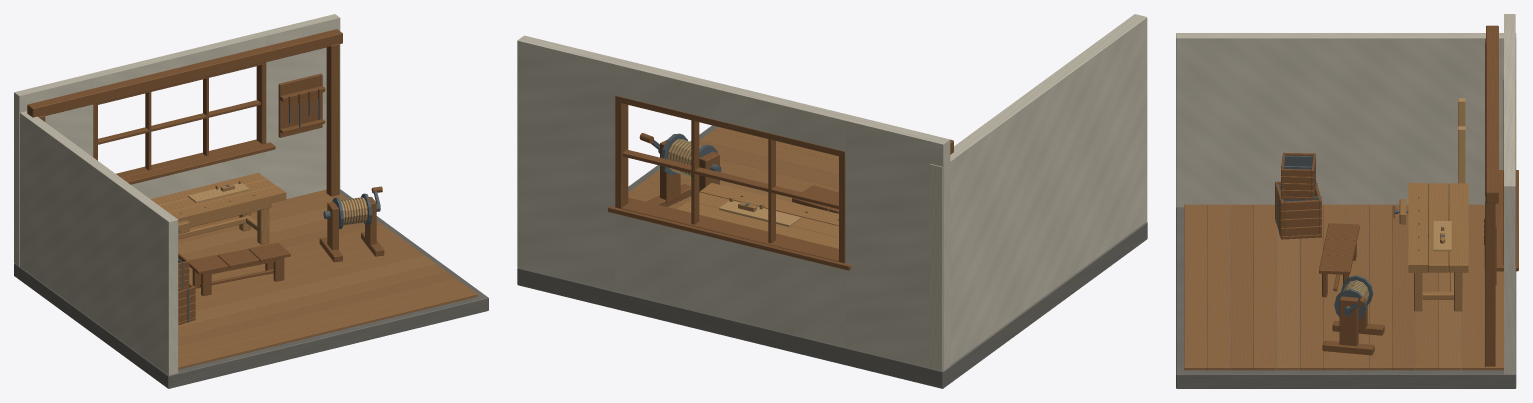
3 renders of one model, left to right at view 1: azimuth 30°, elevation 25°; view 2: azimuth 150°, elevation 25°; view 3: azimuth 270°, elevation 25°, orthographic. The views are drawn at different scales.
Visible parts, largest first — view 1: side__wall, floor__ground, rear, rear_beam__beam, floorboard_0__beam, rear__plaster_pier_-1, floorboard_1__beam, floorboard_2__beam, floorboard_3__beam, rear__plaster_header, floorboard_4__beam, rear__plaster_sill (+26 smaller); view 2: side__wall, rear, rear__plaster_pier_-1, rear__plaster_sill, floor__ground, rear__plaster_header, rear__projecting_sill, table, rear__window_crossbar, floorboard_1__beam, rear__window_rail_1.0979999999999999, floorboard_2__beam (+10 smaller); view 3: side__wall, floor__ground, floorboard_0__beam, floorboard_1__beam, floorboard_2__beam, floorboard_3__beam, table, floorboard_8__beam, floorboard_12__beam, floorboard_9__beam, floorboard_4__beam, floorboard_5__beam (+22 smaller).
Boxes of the visible parts, x1=… form: side__wall: x1=20, y1=111, x2=178, y2=375; floor__ground: x1=14, y1=189, x2=488, y2=388; rear: x1=256, y1=14, x2=340, y2=198; rear_beam__beam: x1=27, y1=29, x2=342, y2=117; floorboard_0__beam: x1=178, y1=286, x2=477, y2=369; rear__plaster_pier_-1: x1=14, y1=74, x2=93, y2=266; floorboard_1__beam: x1=178, y1=279, x2=466, y2=356; floorboard_2__beam: x1=178, y1=271, x2=456, y2=346; floorboard_3__beam: x1=178, y1=263, x2=445, y2=336; rear__plaster_header: x1=88, y1=32, x2=266, y2=88; floorboard_4__beam: x1=178, y1=256, x2=435, y2=326; rear__plaster_sill: x1=131, y1=152, x2=266, y2=198; side__wall: x1=930, y1=14, x2=1147, y2=370; rear: x1=517, y1=35, x2=628, y2=290; rear__plaster_pier_-1: x1=845, y1=115, x2=950, y2=371; rear__plaster_sill: x1=615, y1=214, x2=845, y2=347; floor__ground: x1=517, y1=125, x2=1147, y2=388; rear__plaster_header: x1=615, y1=59, x2=851, y2=154; rear__projecting_sill: x1=608, y1=197, x2=850, y2=270; table: x1=677, y1=192, x2=838, y2=248; rear__window_crossbar: x1=622, y1=149, x2=838, y2=209; floorboard_1__beam: x1=699, y1=130, x2=838, y2=174; rear__window_rail_1.0979999999999999: x1=619, y1=203, x2=839, y2=261; floorboard_2__beam: x1=699, y1=141, x2=838, y2=188; side__wall: x1=1176, y1=33, x2=1516, y2=207; floor__ground: x1=1176, y1=207, x2=1516, y2=388; floorboard_0__beam: x1=1184, y1=204, x2=1207, y2=370; floorboard_1__beam: x1=1207, y1=204, x2=1230, y2=370; floorboard_2__beam: x1=1230, y1=204, x2=1253, y2=370; floorboard_3__beam: x1=1253, y1=204, x2=1276, y2=370; table: x1=1422, y1=183, x2=1468, y2=311; floorboard_8__beam: x1=1369, y1=204, x2=1392, y2=370; floorboard_12__beam: x1=1462, y1=204, x2=1484, y2=370; floorboard_9__beam: x1=1392, y1=204, x2=1415, y2=370; floorboard_4__beam: x1=1277, y1=226, x2=1299, y2=370; floorboard_5__beam: x1=1300, y1=204, x2=1322, y2=370.
Size of the model in its own units: 6 by 3.29 by 5.04.
Materials: 10 (8 with a texture image).
